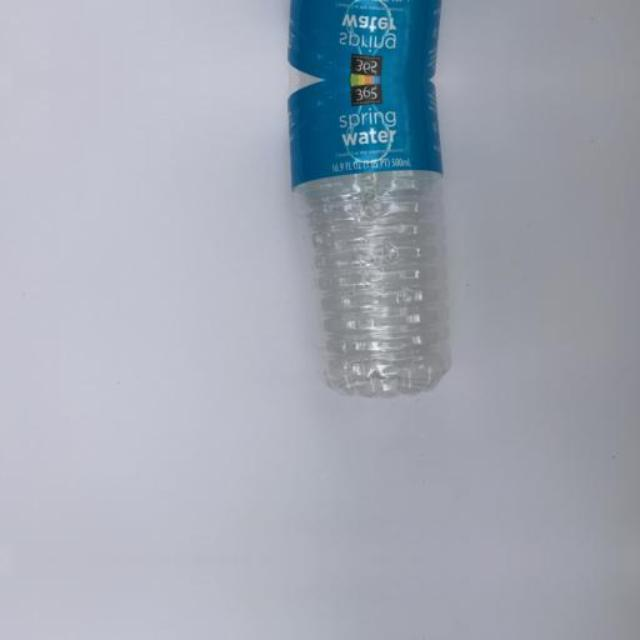Plastic: (281, 80, 484, 428), (280, 0, 483, 80)
